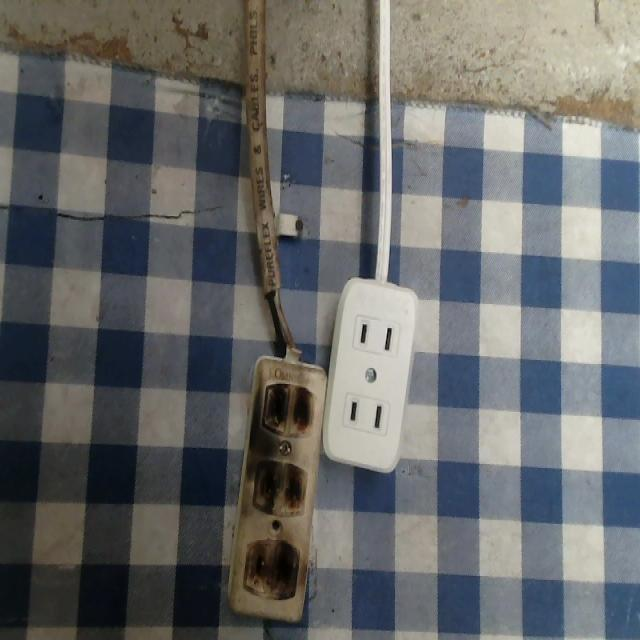-: (237, 534, 303, 602), (258, 379, 322, 437), (250, 456, 309, 516)
